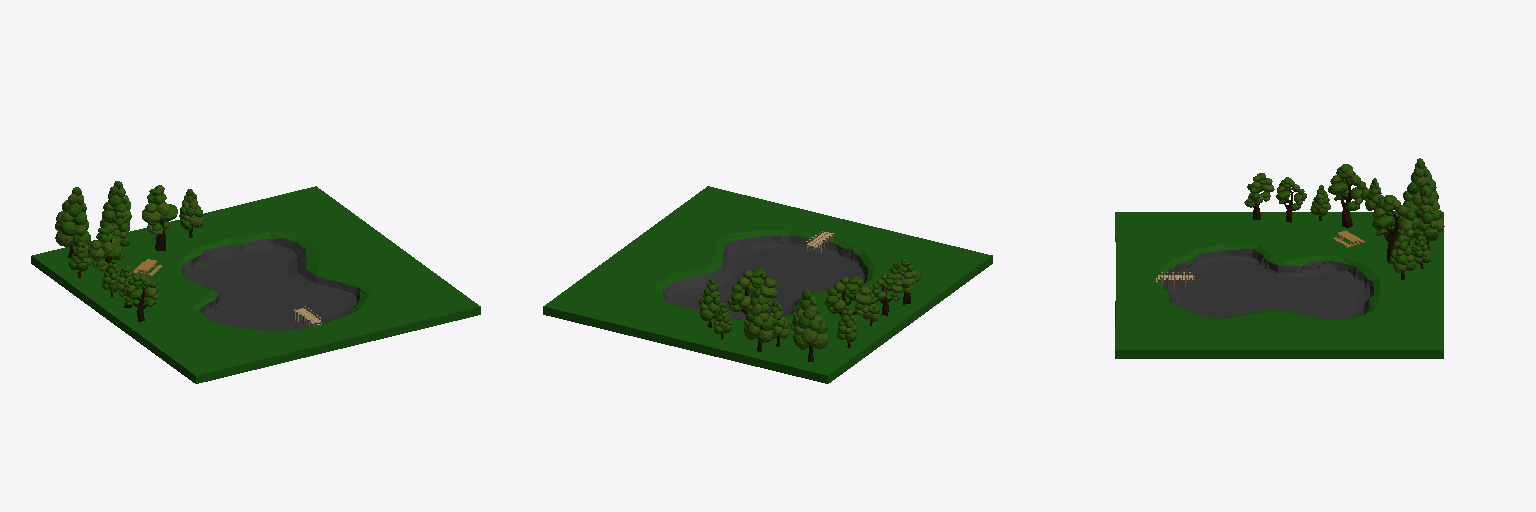
File: WholePark.obj
3 views of the same model, side by side, from view 1: azimuth 30°, elevation 25°; view 2: azimuth 150°, elevation 25°; view 3: azimuth 270°, elevation 25° (orthographic).
Parts seen in each view (by area): view 1: Ground_Grid; view 2: Ground_Grid; view 3: Ground_Grid.
Part boxes in pixels (left/top/right/bottom): Ground_Grid: left=31, top=181, right=480, bottom=383; Ground_Grid: left=543, top=186, right=992, bottom=383; Ground_Grid: left=1115, top=158, right=1444, bottom=358.
Bounding box in the file's own units: 60 × 17.82 × 60.05.